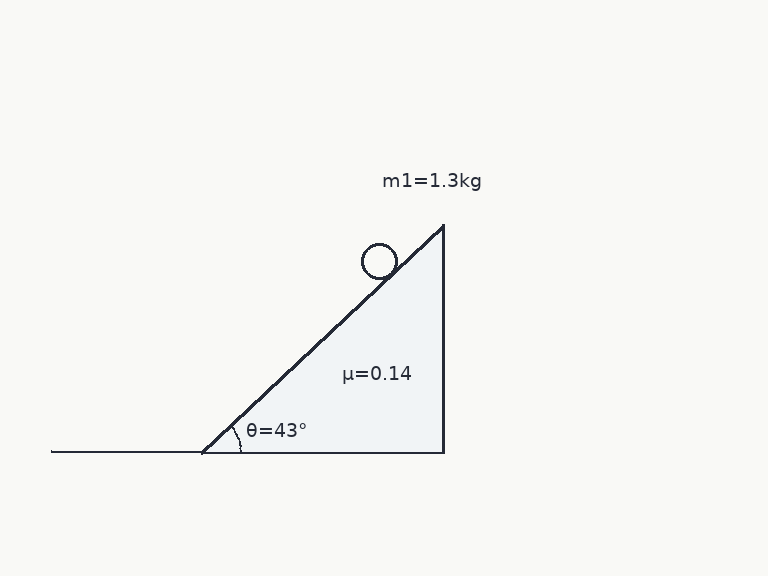ball: (359, 241, 399, 281)
ramp: (199, 224, 446, 454)
